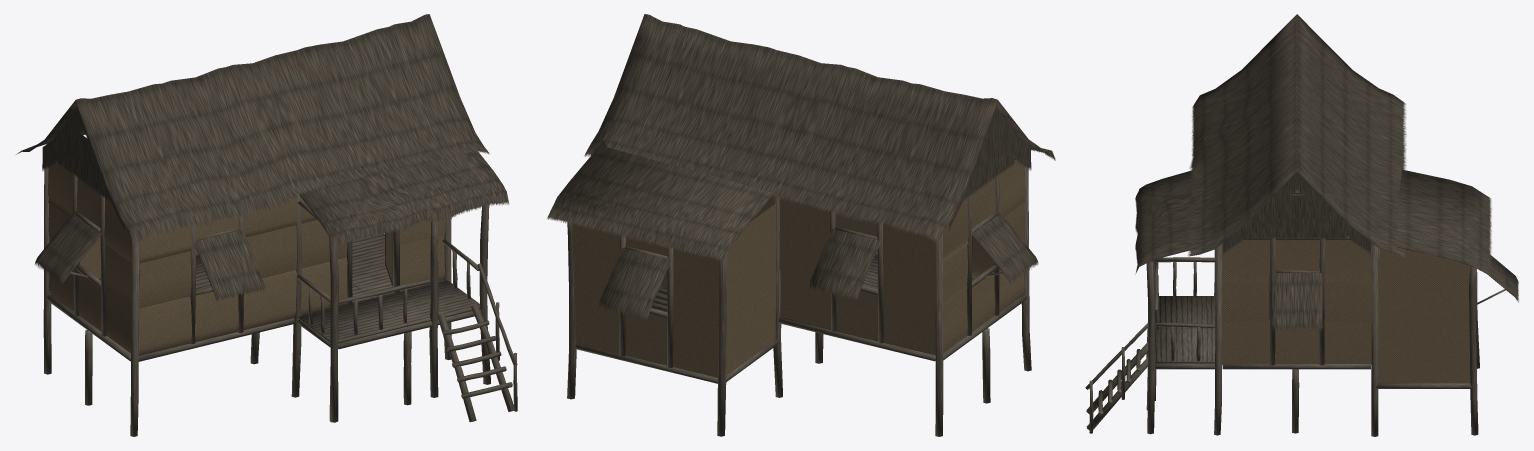
The model's file is my_atap_house.glb.
3 renders of one model, left to right at view 1: azimuth 30°, elevation 25°; view 2: azimuth 150°, elevation 25°; view 3: azimuth 270°, elevation 25°, orthographic. The views are drawn at different scales.
Parts seen in each view (by area): view 1: atap_house; view 2: atap_house; view 3: atap_house.
Part boxes in pixels (x1,y1,x2,y2): atap_house: (16,14,517,436); atap_house: (547,14,1055,436); atap_house: (1085,14,1518,436).
Bounding box in the file's own units: 8.05 × 5.93 × 8.4.
1 material, 1 textured.
